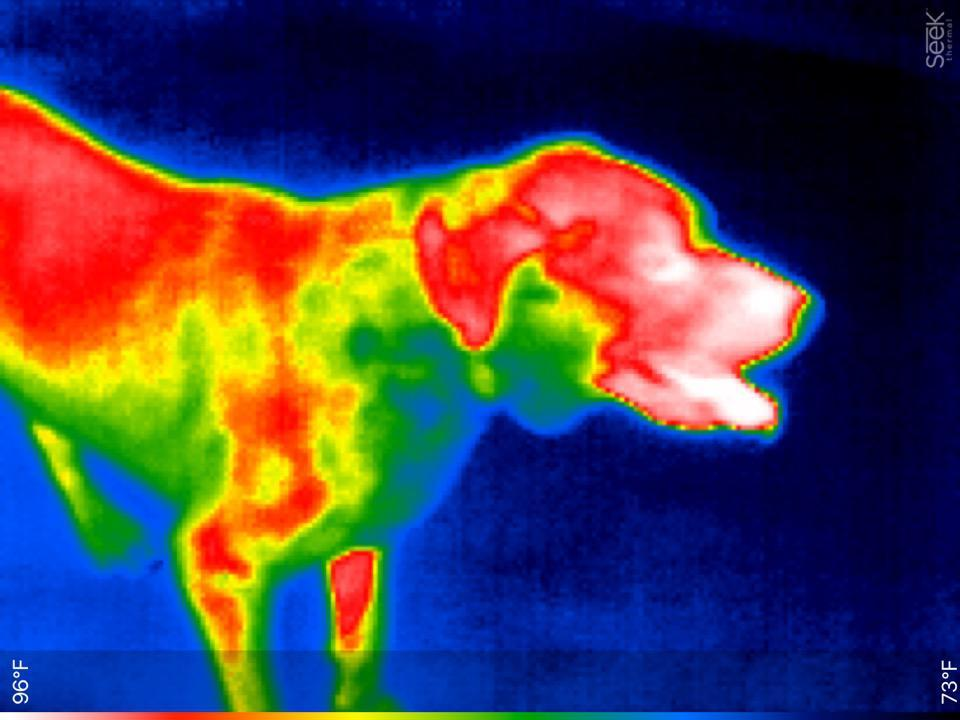dog: (0, 68, 823, 709)
